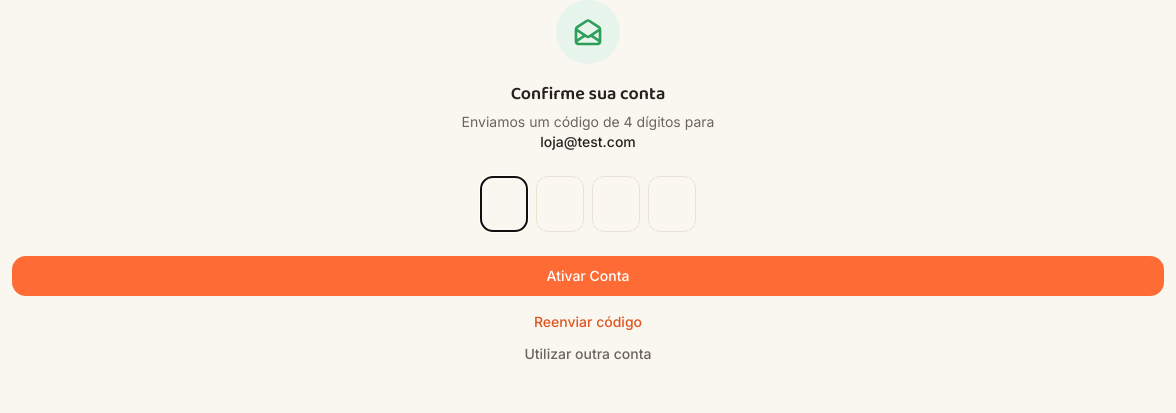
VerifyAccountPage (smoke) › reenviar código mostra aviso de sucesso
Click the button "Reenviar código" at (588, 322), box [534,312,642,332]
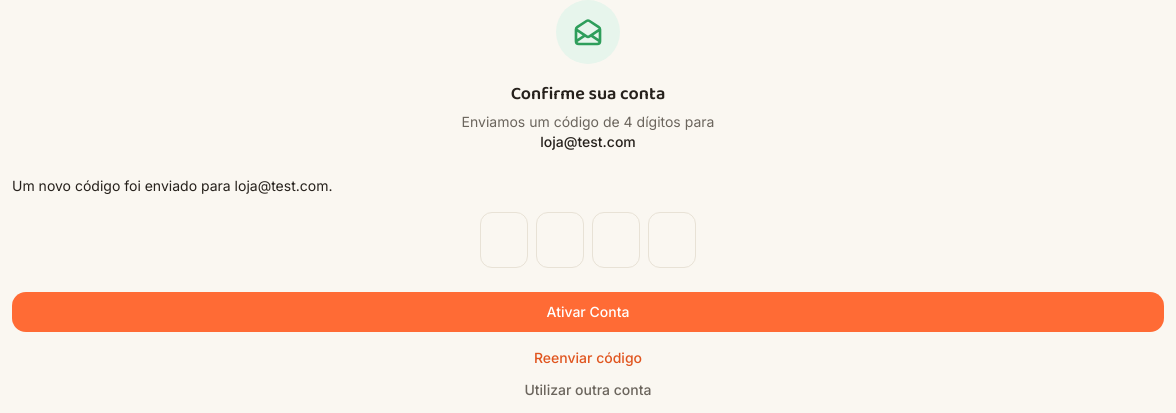
Expected: the text "Um novo código foi enviado para loja@test.com." is shown, [12,176,332,196]
